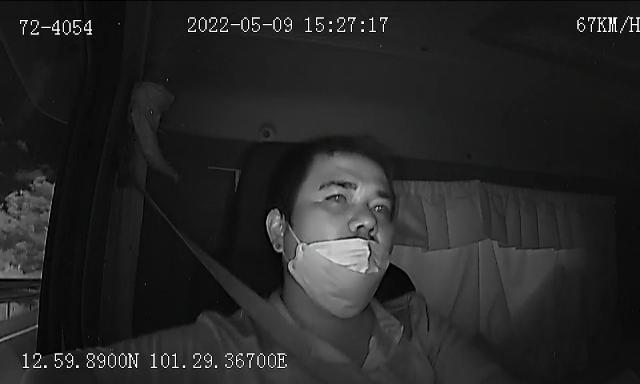SafeDriving: (320, 186, 352, 208), (366, 193, 394, 218)
Seatbelt: (160, 208, 314, 358)
